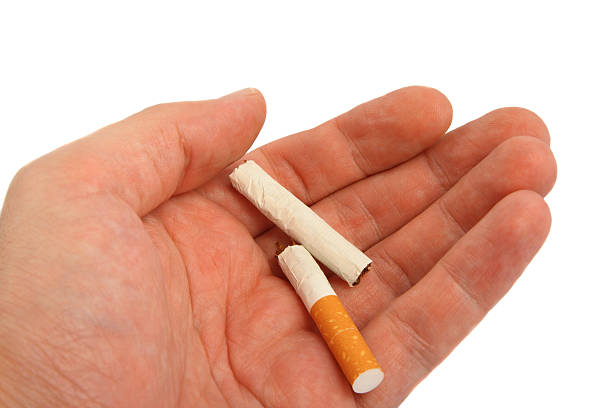cigarette: (228, 159, 372, 285), (277, 244, 385, 396)
